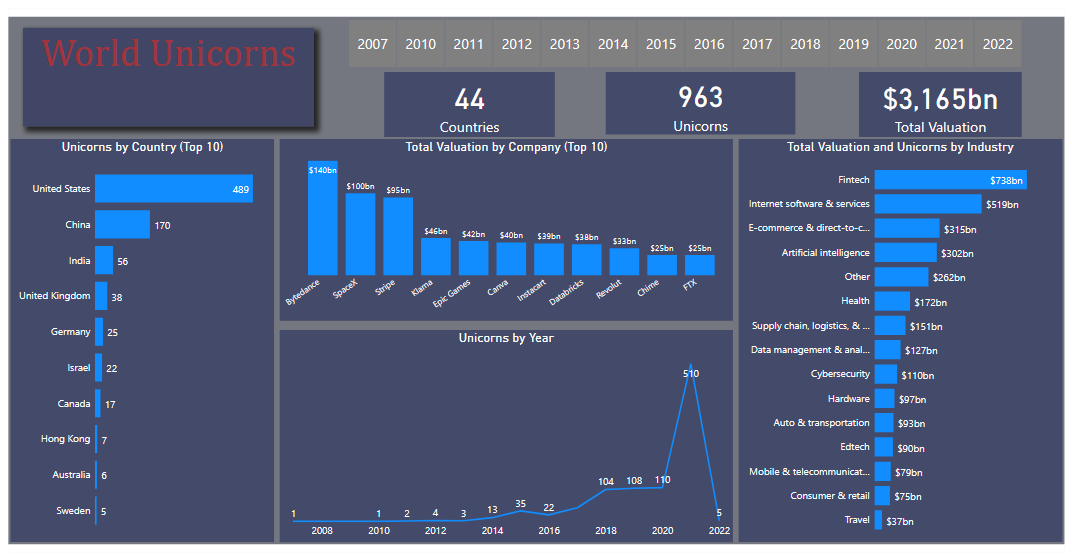

The dashboard page shown, as its layout file describes it:
{"tool":"powerbi","page":{"name":"Page 1","canvas":[2000,1000],"ordinal":0},"visuals":[{"type":"clusteredBarChart","title":"Unicorns by Country","fields":{"Category":["World Unicorns.Country"],"Y":["Calc.Unicorns"]},"box":[4.3,232.3,498.9,763.4],"z":0},{"type":"columnChart","title":"Total Valuation by Company","fields":{"Category":["World Unicorns.Company"],"Y":["Calc.Total Valuation"]},"box":[514.6,232.3,858.1,344.1],"z":1000},{"type":"lineChart","fields":{"Category":["World Unicorns.Date Joined.Variation.Date Hierarchy.Year"],"Y":["Calc.Unicorns"]},"box":[514,593.5,858.1,402.2],"z":2000},{"type":"card","fields":{"Values":["Calc.Total Valuation"]},"box":[1202.2,109.7,307.5,118.3],"z":3000},{"type":"card","fields":{"Values":["Calc.Unicorns"]},"box":[787.1,109.7,359.1,118.3],"z":4000},{"type":"card","fields":{"Values":["Calc.Countries"]},"box":[415.1,109.7,322.6,118.3],"z":5000},{"type":"clusteredBarChart","title":"Total Valuation by Industry","fields":{"Y":["Calc.Total Valuation"],"Category":["World Unicorns.Industry"]},"box":[1382.8,232.3,612.9,763.4],"z":6000},{"type":"textbox","box":[19.4,0,380.6,228],"z":7000},{"type":"slicer","fields":{"Values":["World Unicorns.Date Joined.Variation.Date Hierarchy.Year"]},"box":[415.1,0,1565.6,103.2],"z":8000},{"type":"slicer","fields":{"Values":["World Unicorns.Country"]},"box":[1559.1,109.7,421.5,118.3],"z":9000}]}

Visuals, with their boxes on the page's 2000x1000 design canvas (x1, y1, x2, y2). These are canvas units, not pixel positions in the 1072x560 screenshot, which may show the page scaled, cropped or inside an application window:
"Unicorns by Country" clusteredBarChart: <region>4, 232, 503, 996</region>
"Total Valuation by Company" columnChart: <region>515, 232, 1373, 576</region>
lineChart - World Unicorns.Date Joined.Variation.Date Hierarchy.Year x Calc.Unicorns: <region>514, 594, 1372, 996</region>
card - Calc.Total Valuation: <region>1202, 110, 1510, 228</region>
card - Calc.Unicorns: <region>787, 110, 1146, 228</region>
card - Calc.Countries: <region>415, 110, 738, 228</region>
"Total Valuation by Industry" clusteredBarChart: <region>1383, 232, 1996, 996</region>
textbox: <region>19, 0, 400, 228</region>
slicer - World Unicorns.Date Joined.Variation.Date Hierarchy.Year: <region>415, 0, 1981, 103</region>
slicer - World Unicorns.Country: <region>1559, 110, 1981, 228</region>
